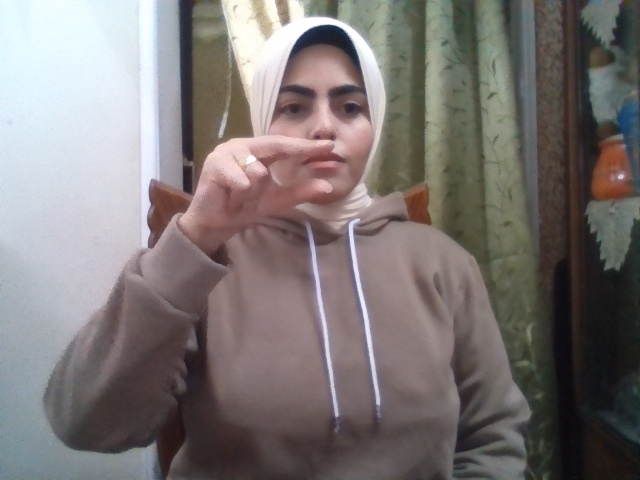no: (189, 136, 334, 234)
